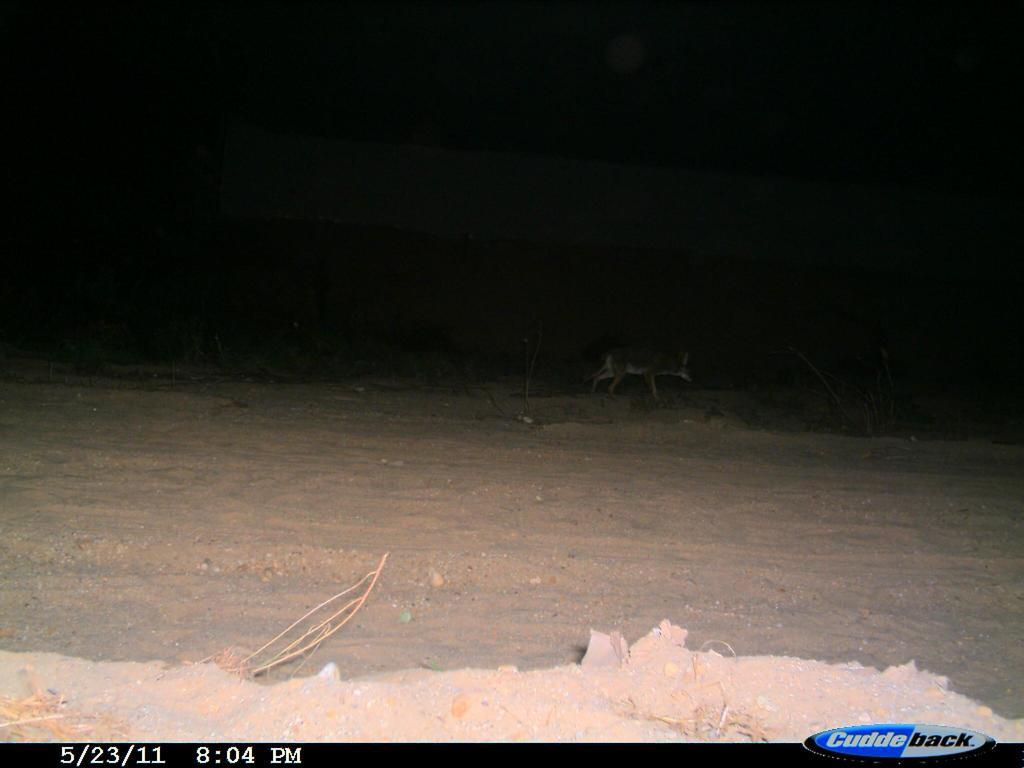coyote: (577, 326, 709, 416)
